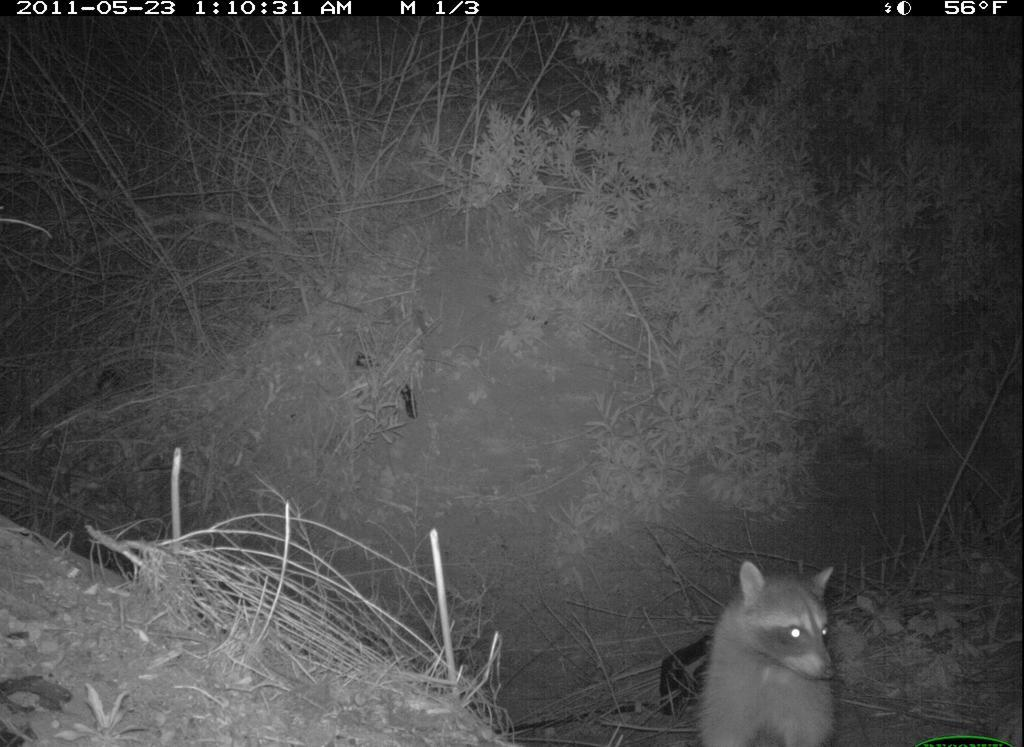raccoon: (697, 560, 845, 747)
